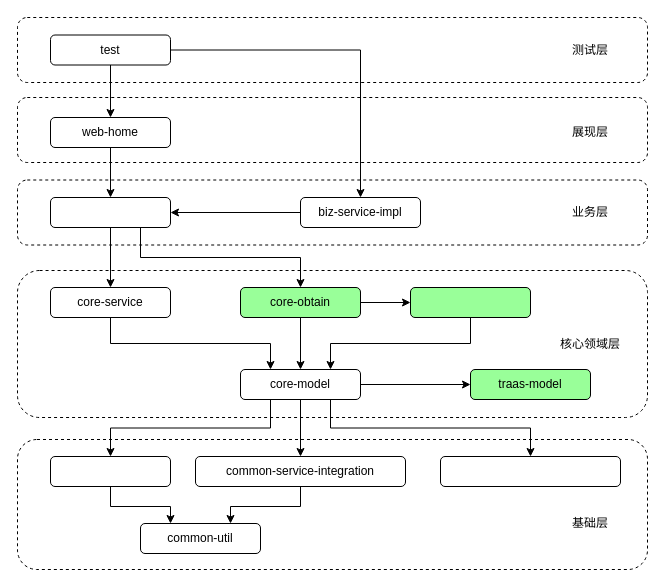
Some shapes in this 665 by 587 pixel diagram are drawn without their labels. Here are the shapes that lost their labels. From the top down, the centre of each, then its label:
At point 110,212: "biz-shared".
At point 470,302: "core-assemble".
At point 110,471: "common-dal".
At point 530,471: "common-service-facade".
